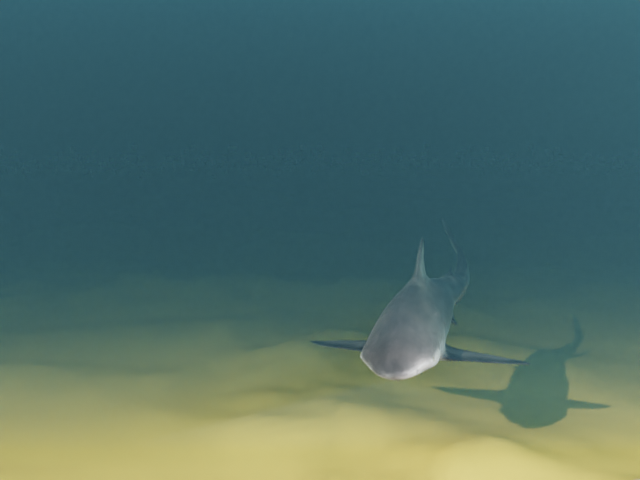Carribean Shark.001: (309, 217, 531, 380)
